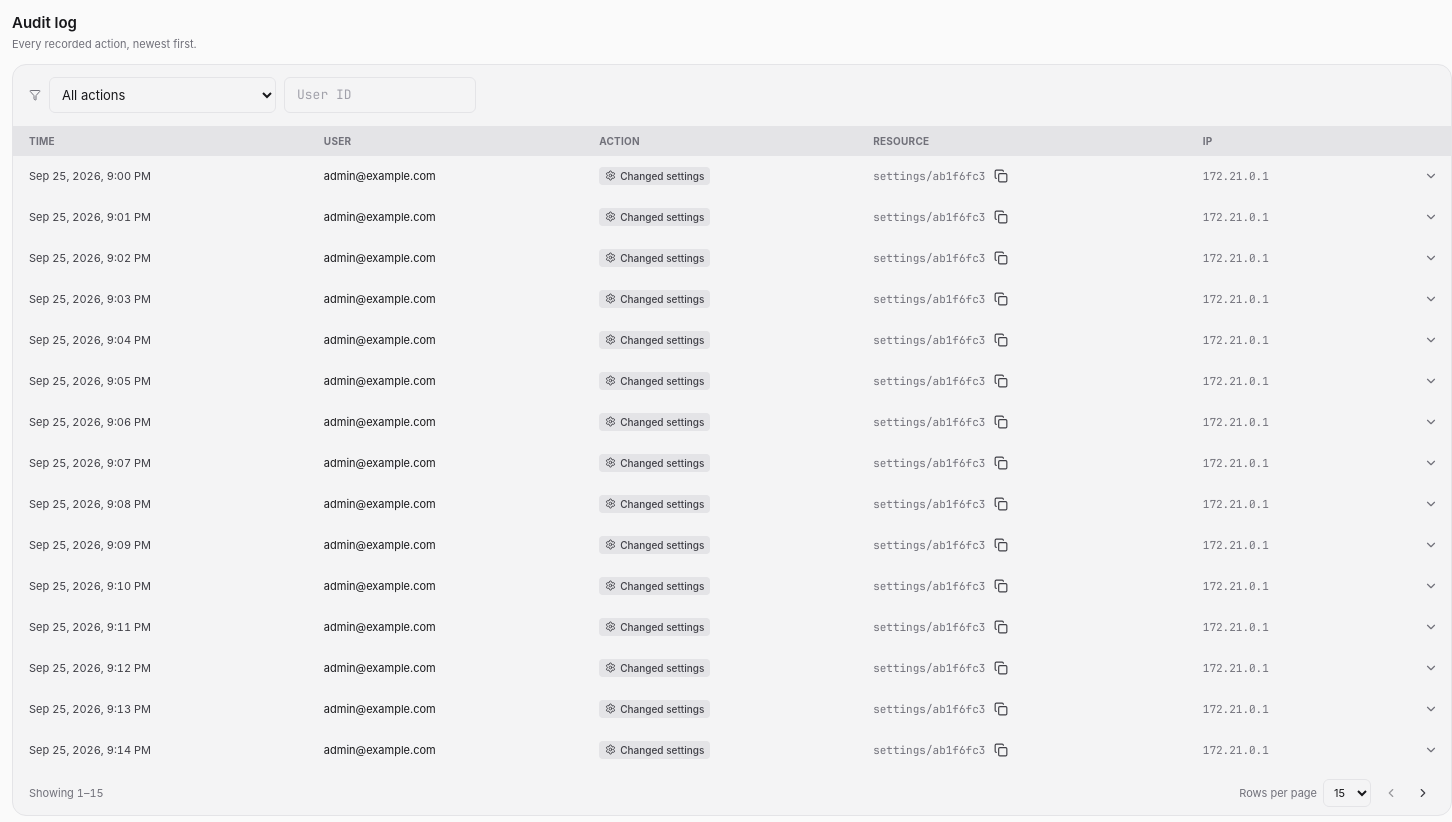
Test: AuditLogSection › asks for one row beyond the page of 15 and pages from the footer
Expected: the navigation bar named "Audit log pagination" shows "Showing 1–15", [29,786,104,800]
Click the button named "Next page".
click(1423, 793)  # box [1411,781,1435,805]
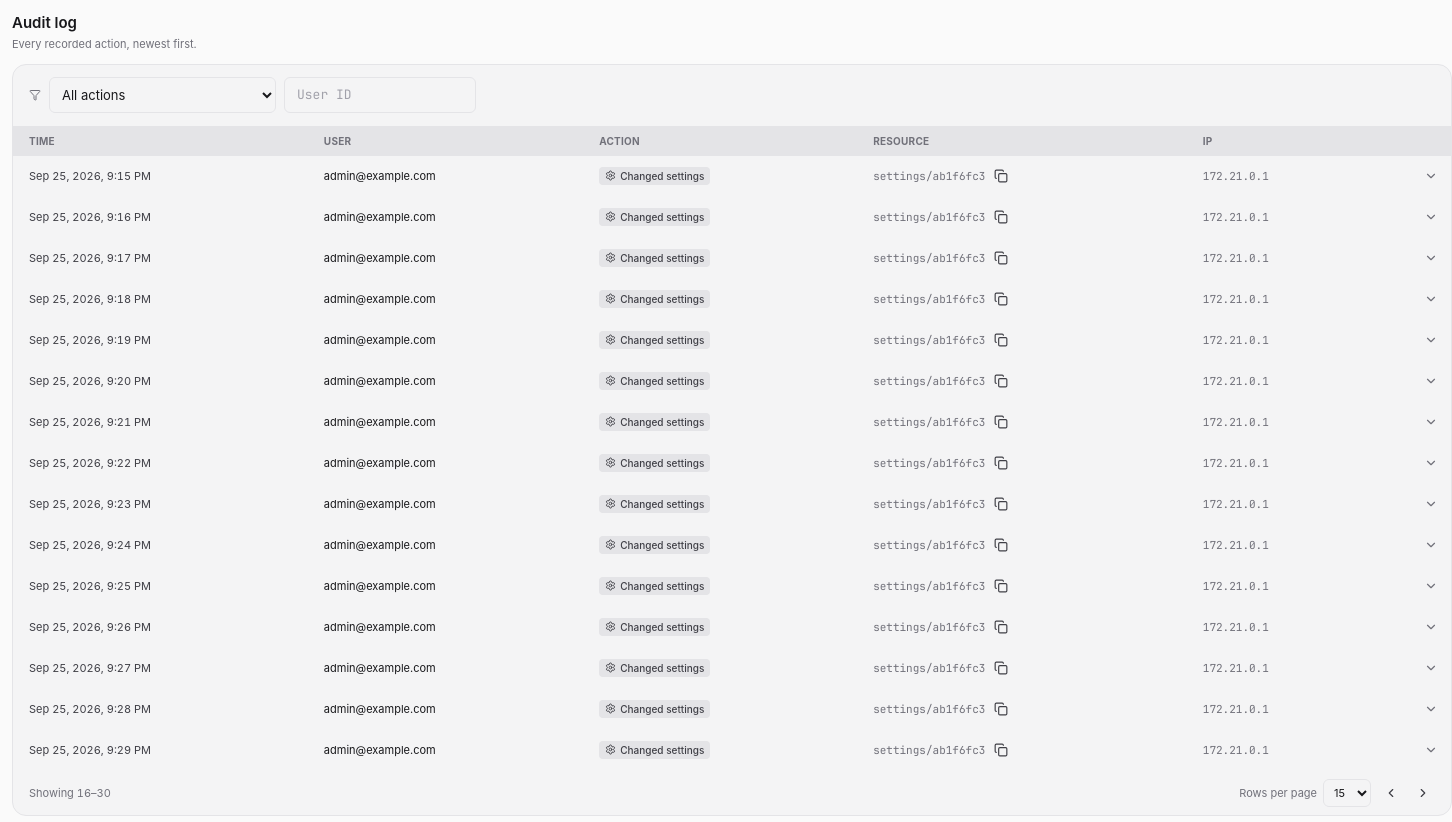
Result: the navigation bar named "Audit log pagination" shows "Showing 16–30" at [29,786,111,800]
Click the button named "Next page".
click(1423, 793)  # box [1411,781,1435,805]
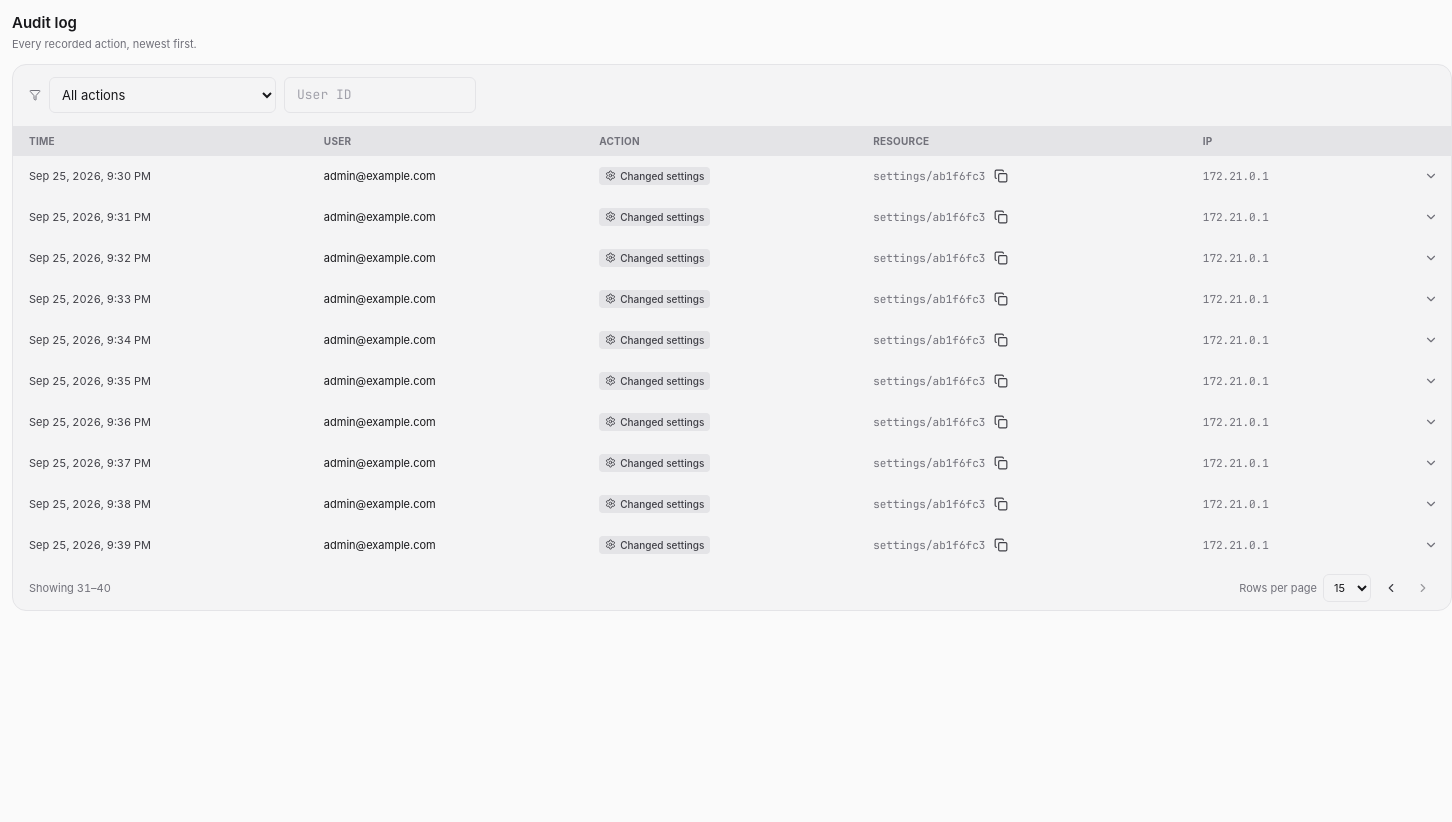
Result: the navigation bar named "Audit log pagination" shows "Showing 31–40" at [29,581,111,595]
Result: the button named "Next page" is disabled at [1411,576,1435,600]
